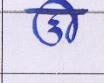o_matra: (61, 0, 77, 41)
